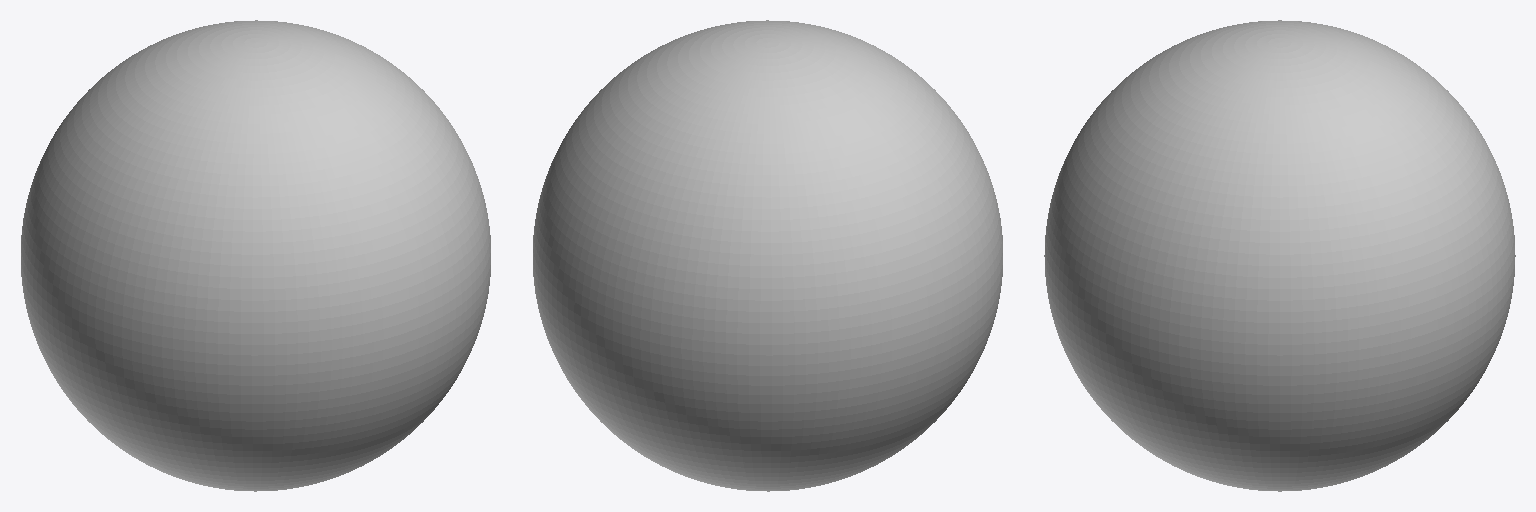
Rendered from orb2.obj.
3 renders of one model, left to right at view 1: azimuth 30°, elevation 25°; view 2: azimuth 150°, elevation 25°; view 3: azimuth 270°, elevation 25°, orthographic.
Visible parts, largest first — view 1: Sphere; view 2: Sphere; view 3: Sphere.
Part boxes in pixels (x1,y1,x2,y2): Sphere: (21,20,490,491); Sphere: (533,20,1002,491); Sphere: (1044,20,1515,491).
Size of the model in its own units: 142 by 142 by 142.